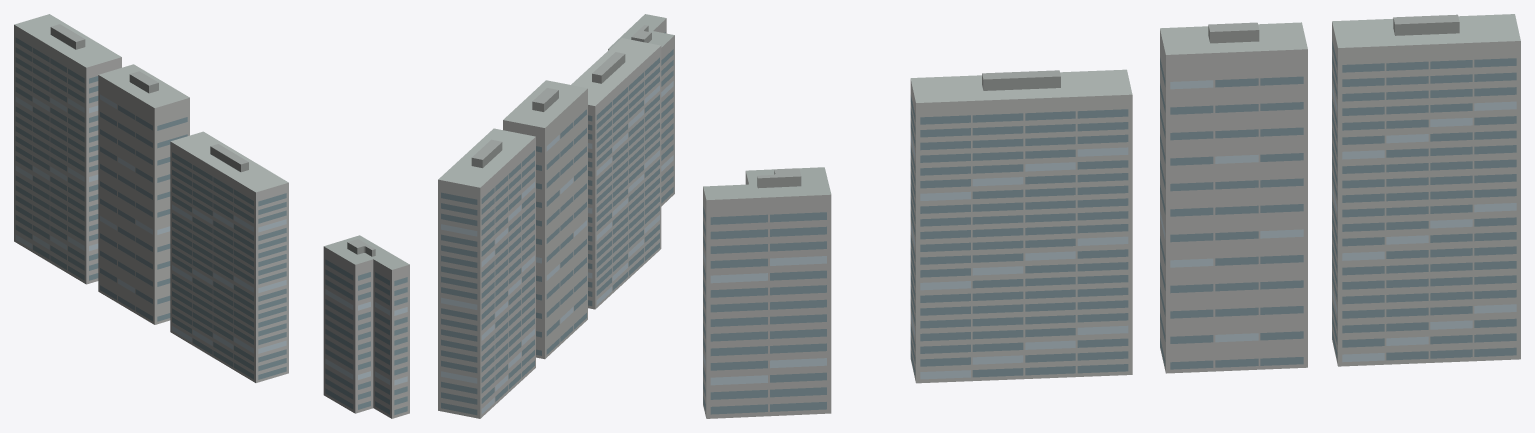
Rendered from apt-a13183502.glb.
The picture shows the model from 3 angles, left to right: view 1: azimuth 30°, elevation 25°; view 2: azimuth 150°, elevation 25°; view 3: azimuth 270°, elevation 25°; orthographic projection. The views are drawn at different scales.
Parts seen in each view (by area): view 1: apt-a13183502; view 2: apt-a13183502; view 3: apt-a13183502.
Boxes of the visible parts, box(x1,y1,x2,y2) form: apt-a13183502: box(14, 14, 409, 418); apt-a13183502: box(438, 14, 674, 418); apt-a13183502: box(703, 14, 1520, 418).
Size of the model in its own units: 38.78 by 69 by 155.
